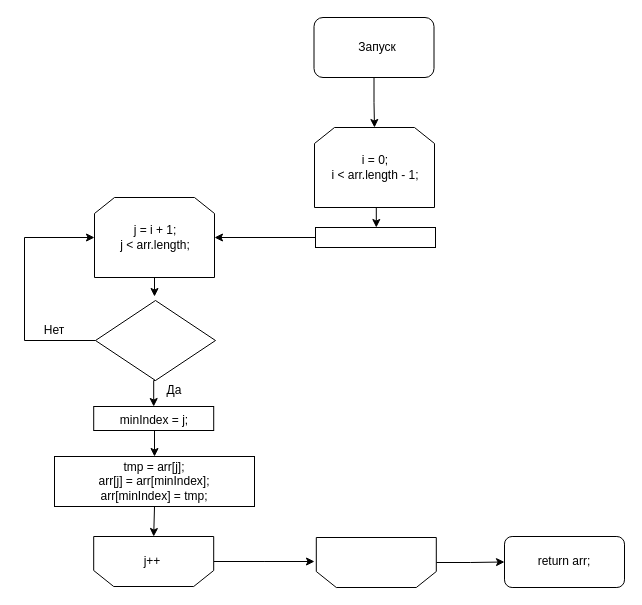
The diagram is 642 pixels wide and 605 high, and some of its shapes have lost their labels. The shapes that lost their labels are listed below. From the top down, each one's centre as x and y in pixels, then its label:
At point (375, 237): "minIndex = i;".
At point (155, 340): "arr[j] < arr[minIndex]".
At point (375, 562): "i++".
